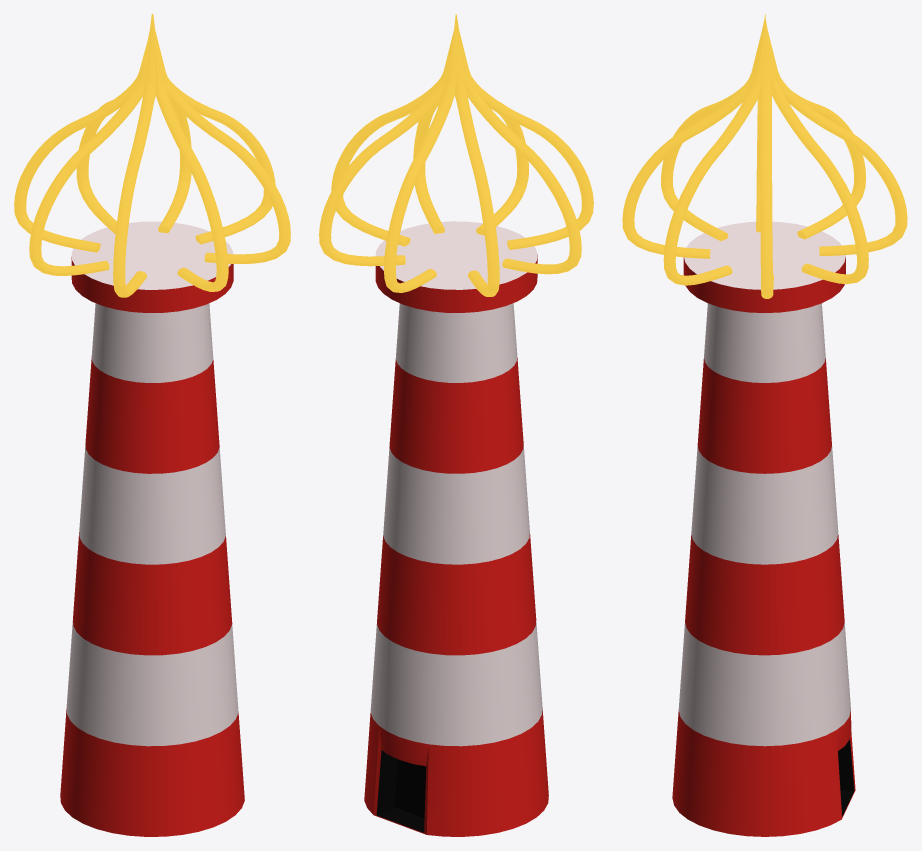
The model's file is LIGHTHOUSE.glb.
3 views of the same model, side by side, from view 1: azimuth 30°, elevation 25°; view 2: azimuth 150°, elevation 25°; view 3: azimuth 270°, elevation 25° (orthographic).
Visible parts, largest first — view 1: Cylinder, Cylinder.003; view 2: Cylinder, Cylinder.003; view 3: Cylinder, Cylinder.003.
Part boxes in pixels (<box>): Cylinder: <box>60,221,244,836</box>; Cylinder.003: <box>14,14,290,297</box>; Cylinder: <box>364,221,548,836</box>; Cylinder.003: <box>319,14,593,296</box>; Cylinder: <box>672,221,855,836</box>; Cylinder.003: <box>622,14,907,298</box>.
Size of the model in its own units: 61.18 by 186 by 61.19.
